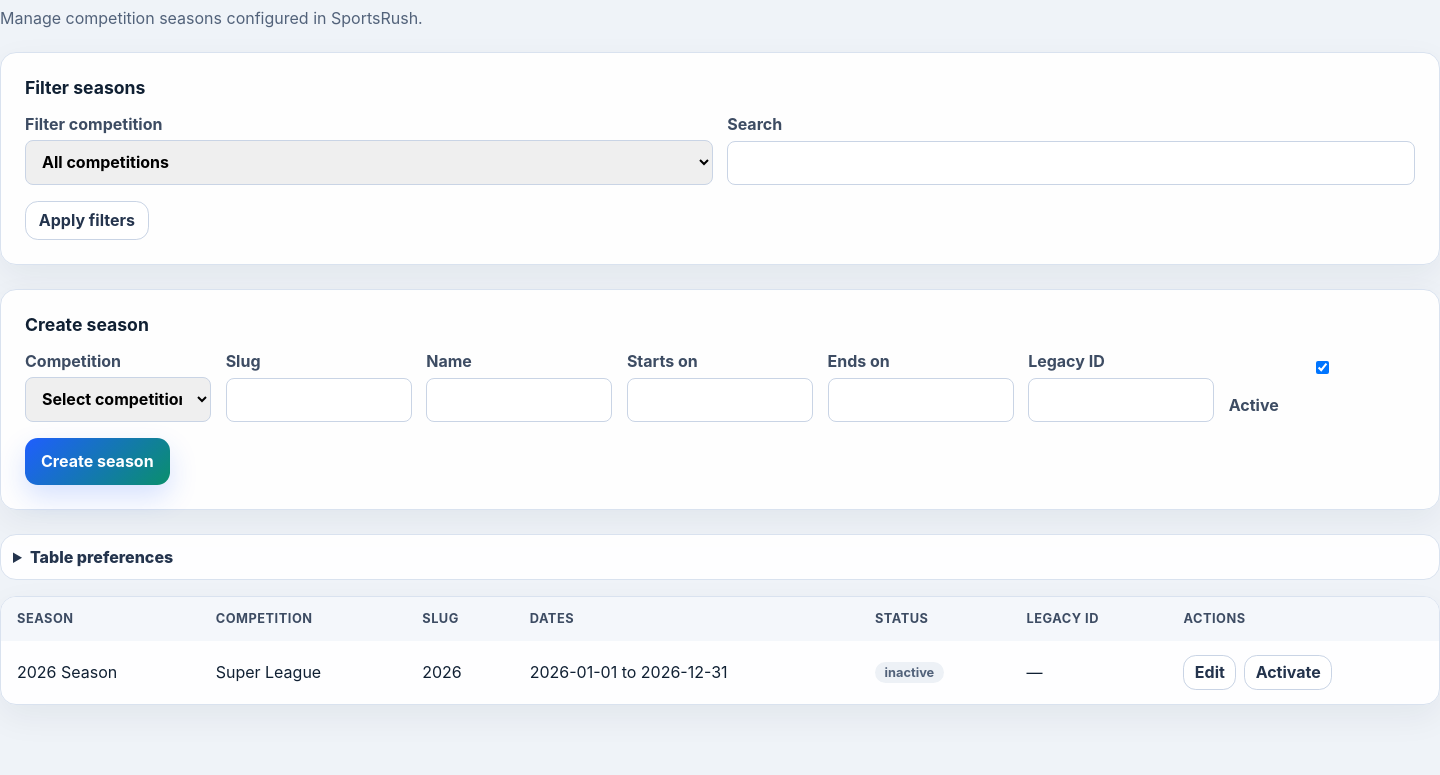
it: SeasonsPage › activates a season and refreshes the list
Expected: the cell "inactive" is shown, 859,640 -> 1010,704
Step 1. Click the button "Activate" → {"x": 1288, "y": 672}, box 1244,655 -> 1332,690
(page scrolled)
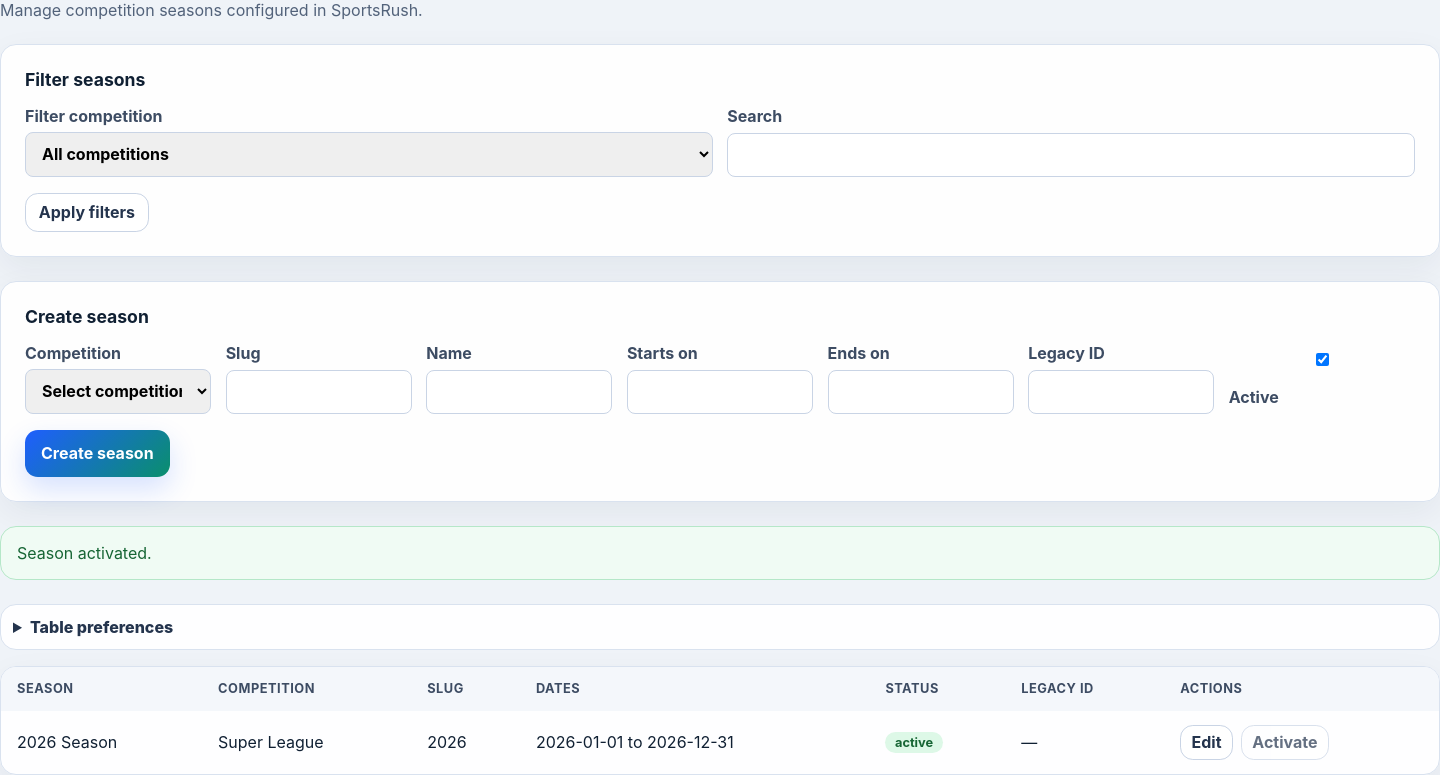
Expected: the cell "active" is shown, 869,710 -> 1005,774
Result: the text "Season activated." is shown at 0,526 -> 1439,580
